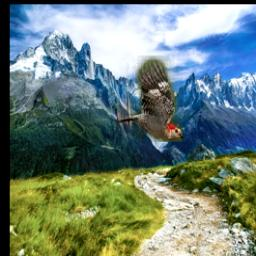Woodpecker: (117, 57, 183, 143)
